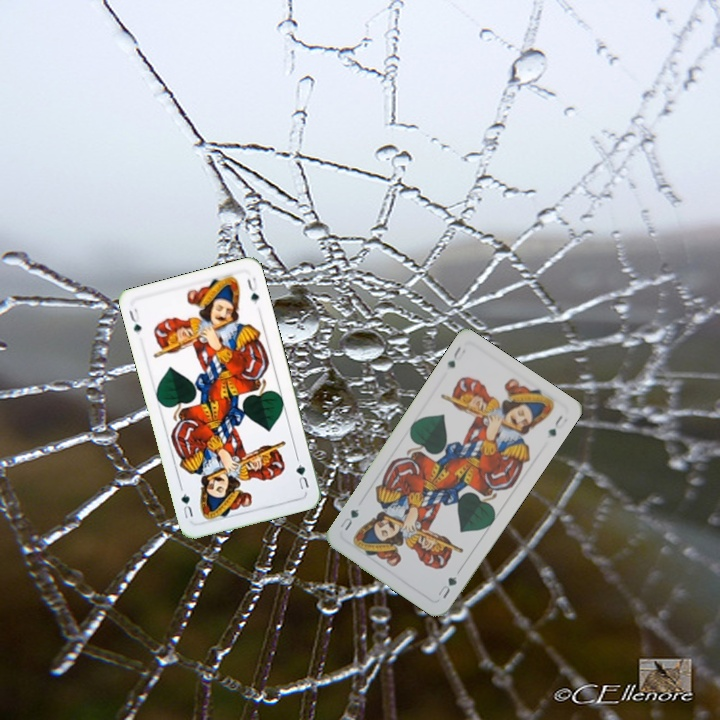GU: (292, 454, 312, 492), (433, 572, 459, 601), (443, 342, 464, 371), (125, 304, 144, 335)
